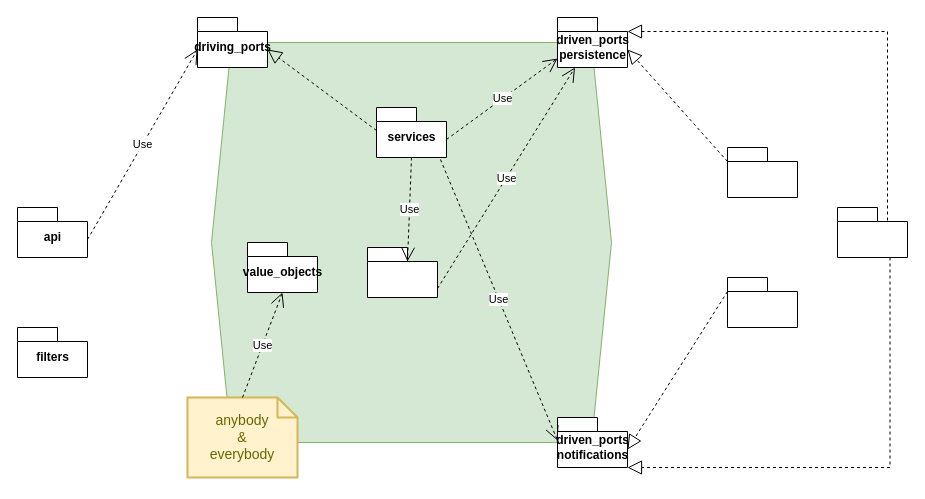
Some shapes in this 925 by 499 pixel diagram are drawn without their labels. The box of each missing label's shape, as (x1, y1, x2, y2) in pixels:
dev: (836, 206, 908, 258)
entities: (366, 246, 438, 298)
mongodb: (726, 146, 798, 198)
thirdparty_services: (726, 276, 798, 328)
